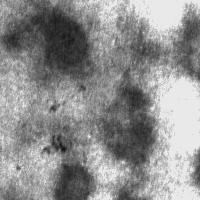patches: (4, 5, 87, 73), (126, 10, 200, 76), (102, 86, 156, 165), (76, 59, 136, 119), (54, 156, 95, 198)
